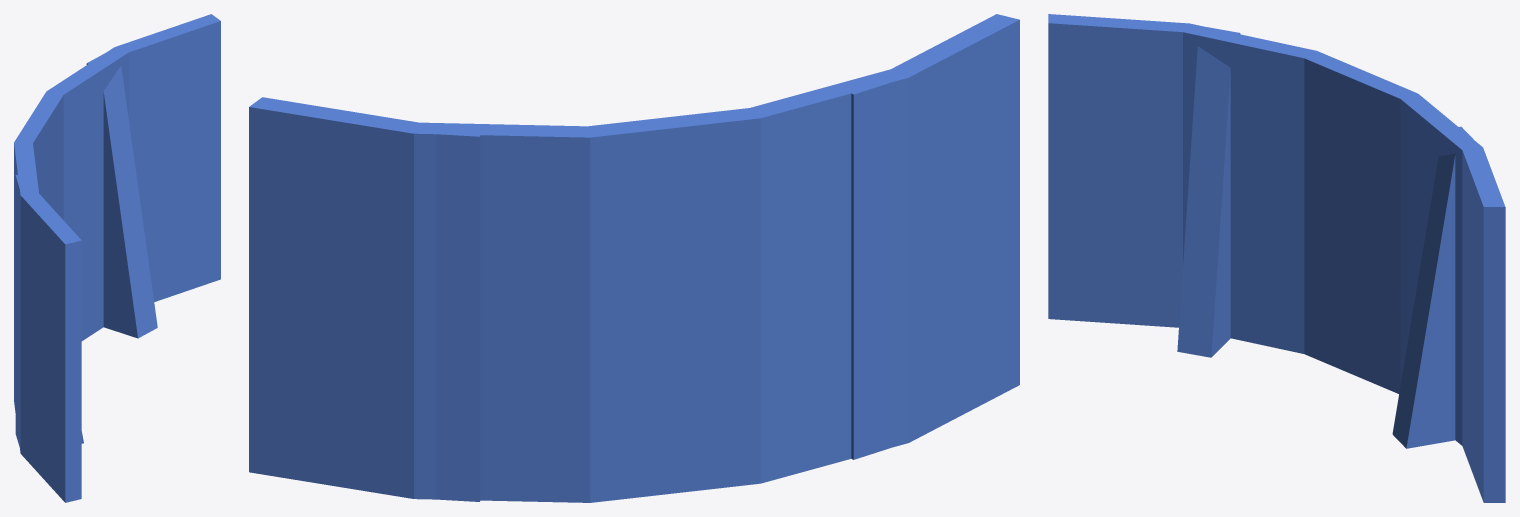
Rendered from WallAstra_Corner_Round_Inner_Collision.fbx.
3 renders of one model, left to right at view 1: azimuth 30°, elevation 25°; view 2: azimuth 150°, elevation 25°; view 3: azimuth 270°, elevation 25°, orthographic. The views are drawn at different scales.
Parts seen in each view (by area): view 1: WallAstra_Corner_Round_Inner_Collision; view 2: WallAstra_Corner_Round_Inner_Collision; view 3: WallAstra_Corner_Round_Inner_Collision.
Boxes of the visible parts, left/top/right/bottom form: WallAstra_Corner_Round_Inner_Collision: left=14, top=14, right=220, bottom=502; WallAstra_Corner_Round_Inner_Collision: left=249, top=14, right=1019, bottom=502; WallAstra_Corner_Round_Inner_Collision: left=1048, top=14, right=1505, bottom=502.
Bounding box in the file's own units: 420 × 300 × 420.
